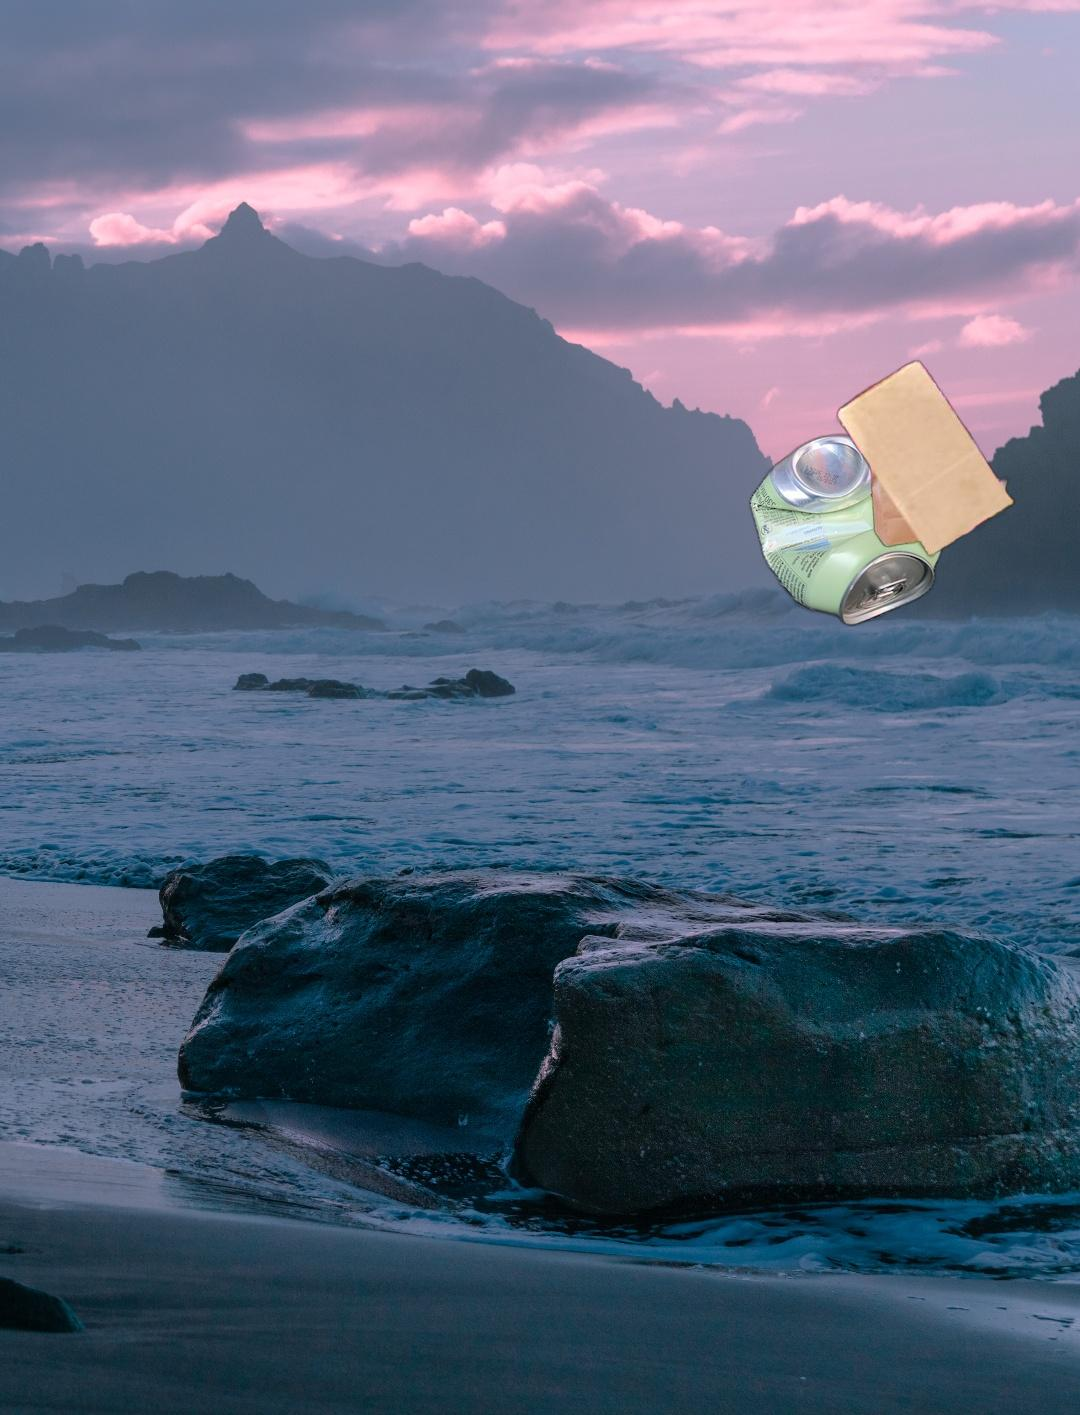metal-cans: (579, 428, 1080, 750)
paper-bag: (833, 357, 1019, 571)
